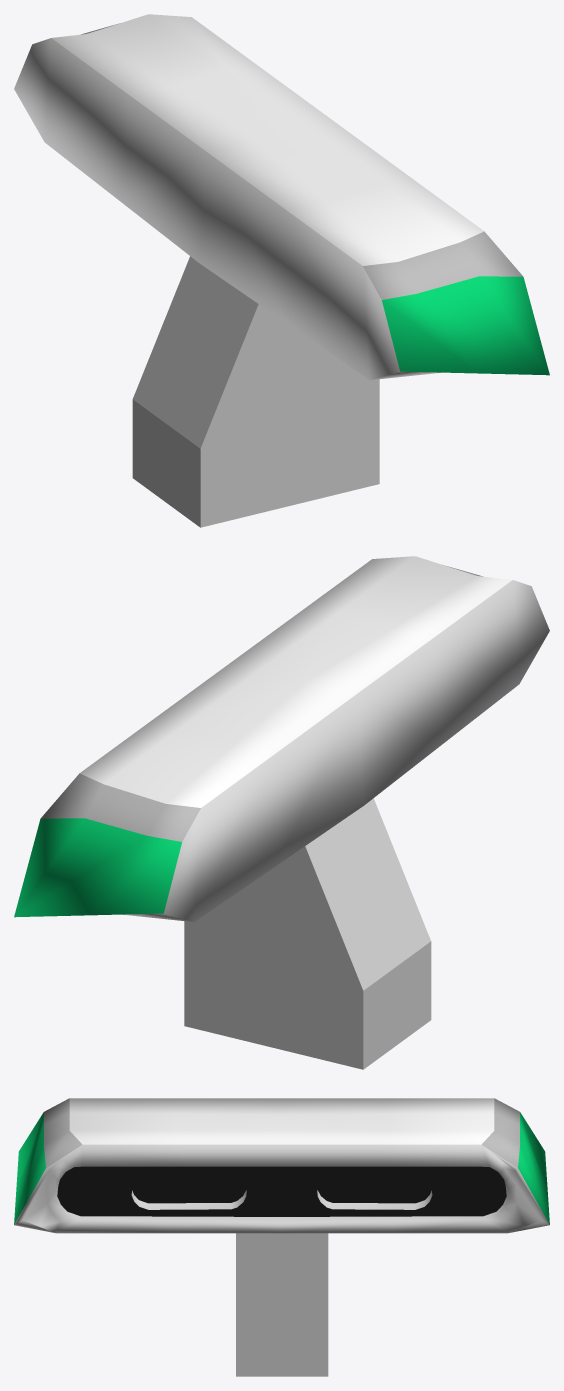
Rendered from HEAD_low.dae.
3 views of the same model, one above another, from view 1: azimuth 30°, elevation 25°; view 2: azimuth 150°, elevation 25°; view 3: azimuth 270°, elevation 25° (orthographic). The views are drawn at different scales.
Parts seen in each view (by area): view 1: Lpj_Head; view 2: Lpj_Head; view 3: Lpj_Head.
Part boxes in pixels (x1,y1,x2,y2): Lpj_Head: (14, 14, 549, 527); Lpj_Head: (14, 556, 549, 1069); Lpj_Head: (14, 1098, 549, 1376).
Bounding box in the file's own units: 0.079 × 0.2776 × 0.1328.
